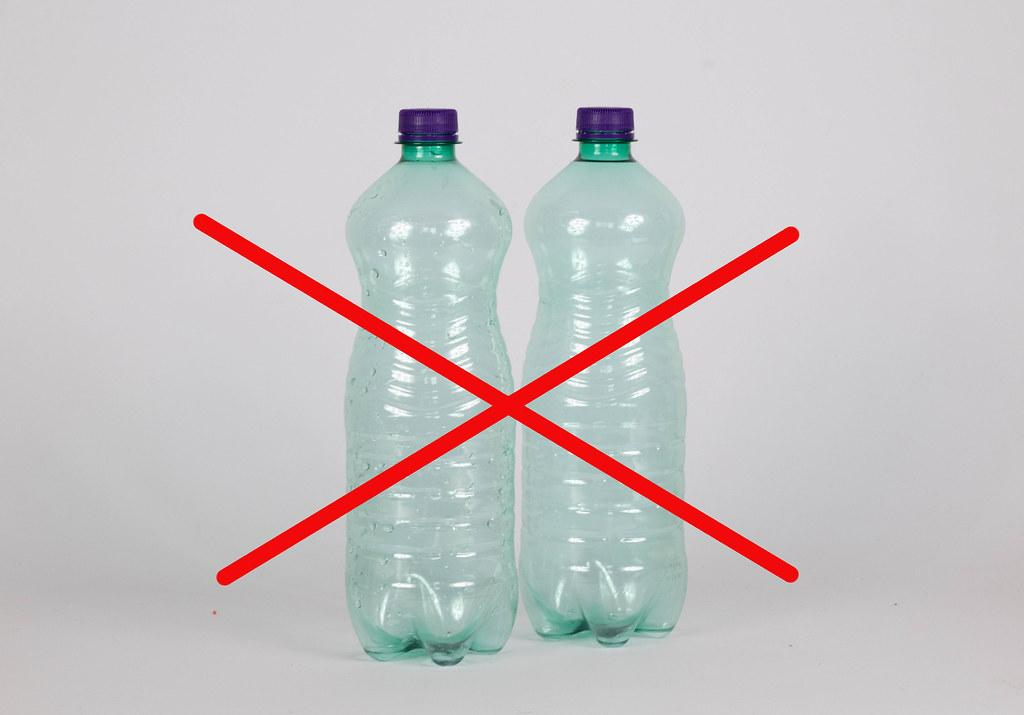bottle: (331, 85, 521, 669), (524, 80, 689, 662)
